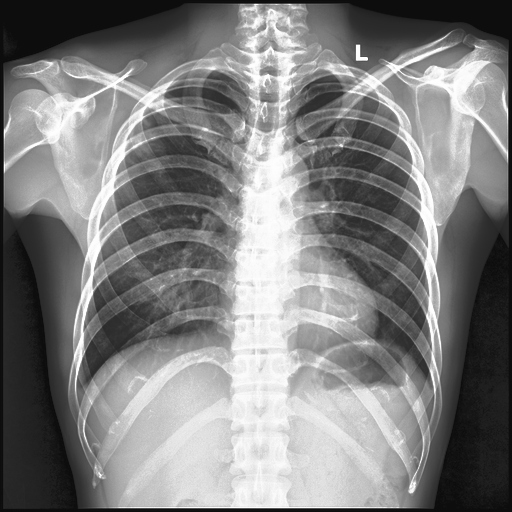ILD: (125, 116, 166, 168)
Pleural thickening: (122, 112, 168, 163)
Pneumothorax: (122, 112, 168, 163)
